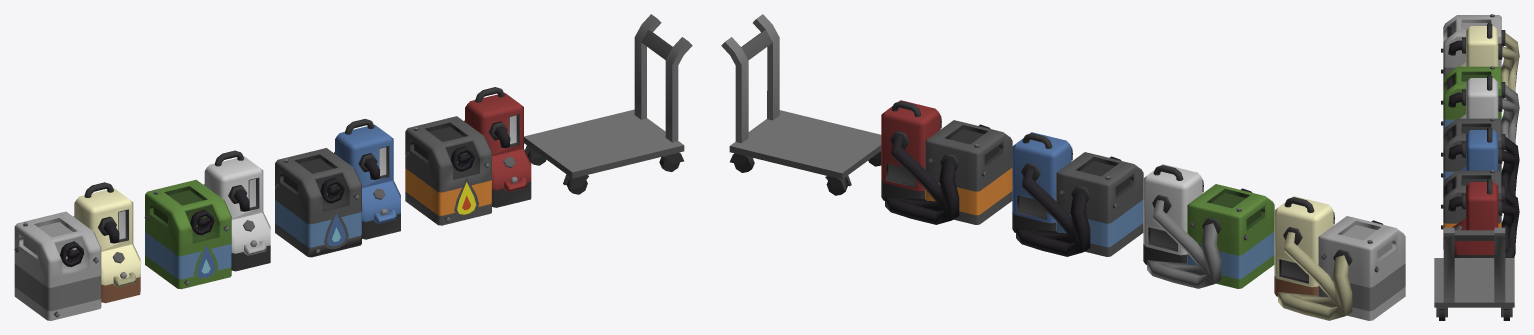
Rendered from Tanks&Cart.fbx.
The picture shows the model from 3 angles, left to right: view 1: azimuth 30°, elevation 25°; view 2: azimuth 150°, elevation 25°; view 3: azimuth 270°, elevation 25°; orthographic projection. The views are drawn at different scales.
Visible parts, largest first — view 1: FoamTank, FuelTank, WaterTankHydro, WaterTank, PlatformCart; view 2: FoamTank, FuelTank, WaterTank, WaterTankHydro, PlatformCart; view 3: PlatformCart, FuelTank, WaterTank, WaterTankHydro, FoamTank.
Boxes of the visible parts, x1,y1,x2,y2 form: FoamTank: (14, 182, 140, 320); FuelTank: (405, 87, 531, 225); WaterTankHydro: (144, 150, 270, 289); WaterTank: (275, 119, 400, 257); PlatformCart: (524, 14, 692, 194); FoamTank: (1274, 196, 1405, 320); FuelTank: (881, 100, 1012, 224); WaterTank: (1012, 132, 1143, 256); WaterTankHydro: (1143, 164, 1274, 288); PlatformCart: (721, 14, 881, 195); PlatformCart: (1434, 227, 1514, 320); FuelTank: (1441, 170, 1519, 257); WaterTank: (1441, 118, 1519, 203); WaterTankHydro: (1441, 66, 1519, 151); FoamTank: (1441, 14, 1519, 99).
Size of the model in its own units: 4.96 by 0.918 by 0.6931.
